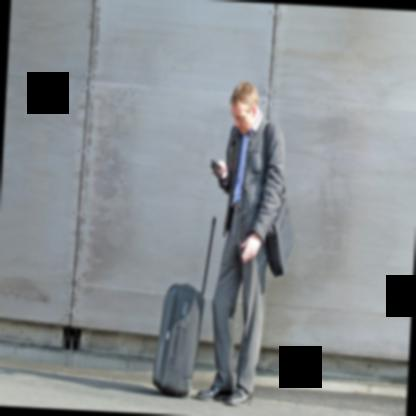handbag: (266, 196, 296, 278)
suitcase: (152, 217, 215, 398)
